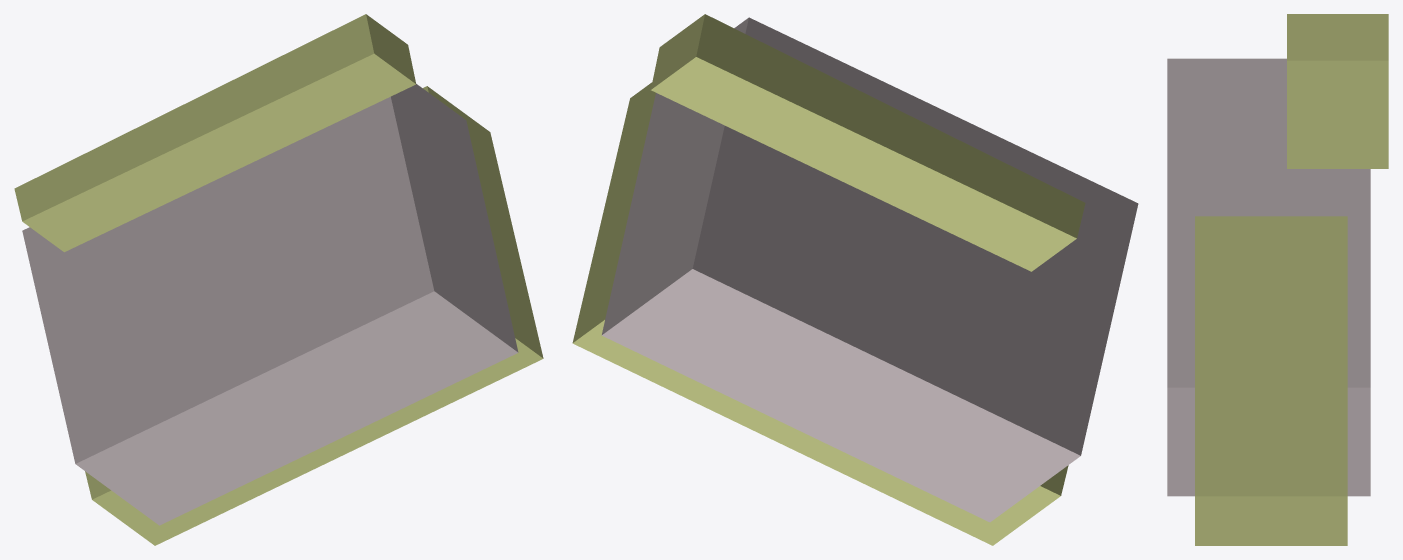
3 views of the same model, side by side, from view 1: azimuth 30°, elevation 25°; view 2: azimuth 150°, elevation 25°; view 3: azimuth 270°, elevation 25° (orthographic). The views are drawn at different scales.
Visible parts, largest first — view 1: 0_1_2_0_1_3_3_1_3; view 2: 0_1_2_0_1_3_3_1_3; view 3: 0_1_2_0_1_3_3_1_3.
Part boxes in pixels (x1,y1,x2,y2): 0_1_2_0_1_3_3_1_3: (14, 14, 543, 545); 0_1_2_0_1_3_3_1_3: (572, 14, 1138, 545); 0_1_2_0_1_3_3_1_3: (1167, 14, 1388, 545).
Size of the model in its own units: 36.99 by 31.66 by 13.05.
